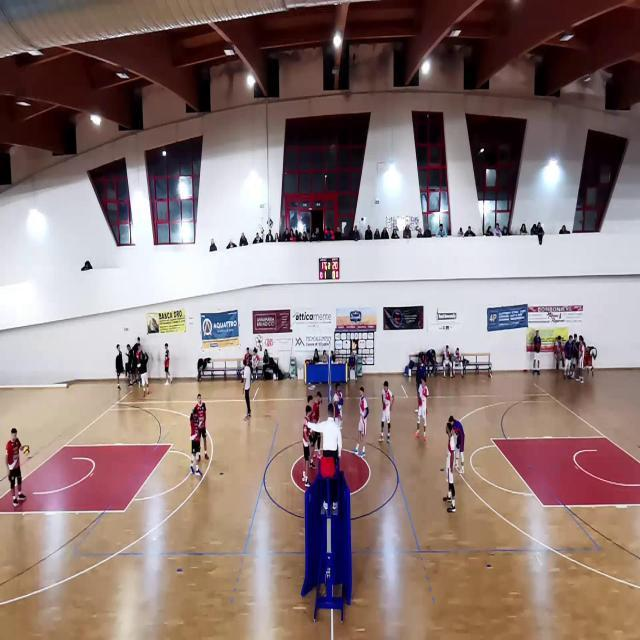volleyball: (24, 447, 29, 455)
